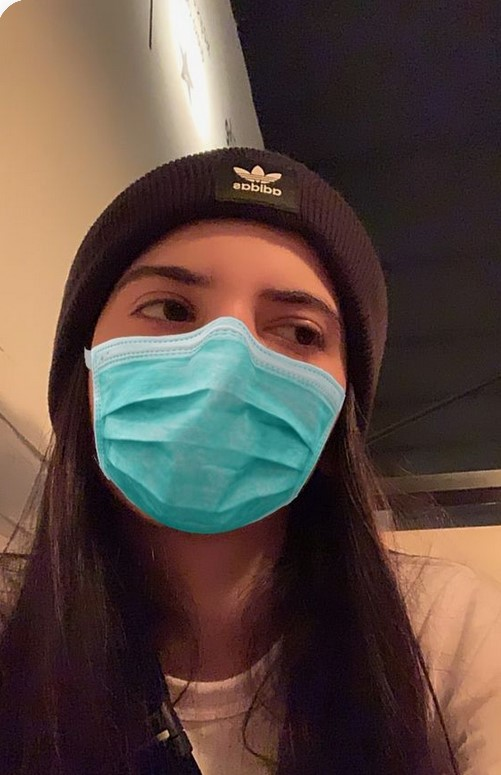face_with_mask: (50, 154, 377, 533)
